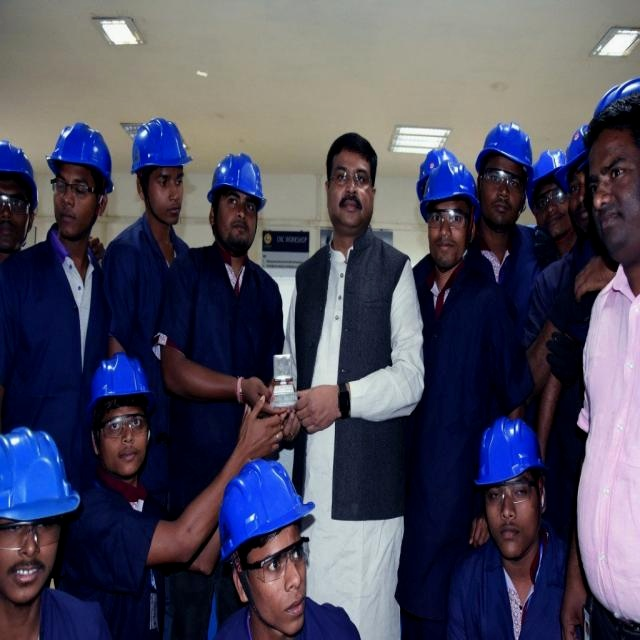Con_Casco: (134, 117, 188, 220), (209, 154, 263, 250)
Sin_Casco_Mascarrilla: (325, 136, 380, 224)
